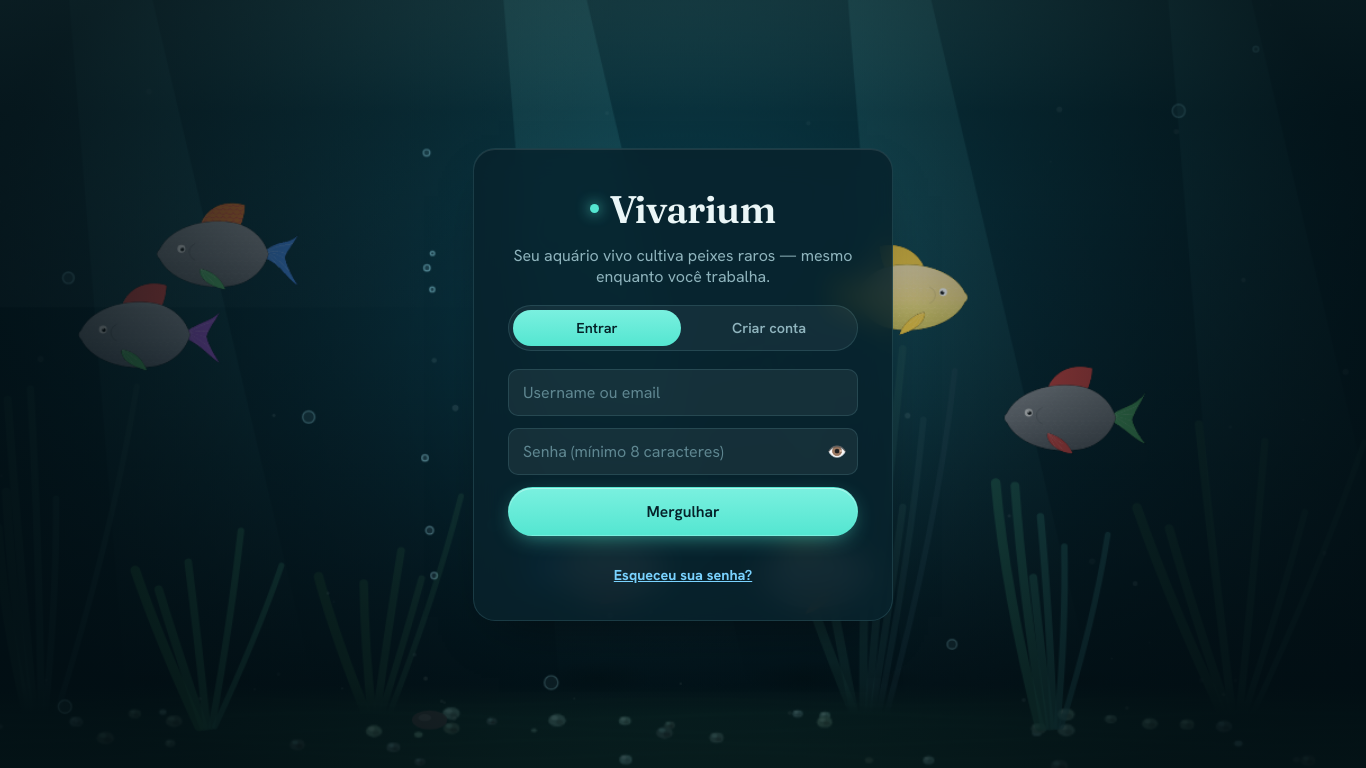
VIP › botão de um pacote fica desabilitado sem saldo suficiente
Type "jogador1" into the field with placeholder "Username ou email".
click(683, 393); type("jogador1")  # box [508,369,858,416]
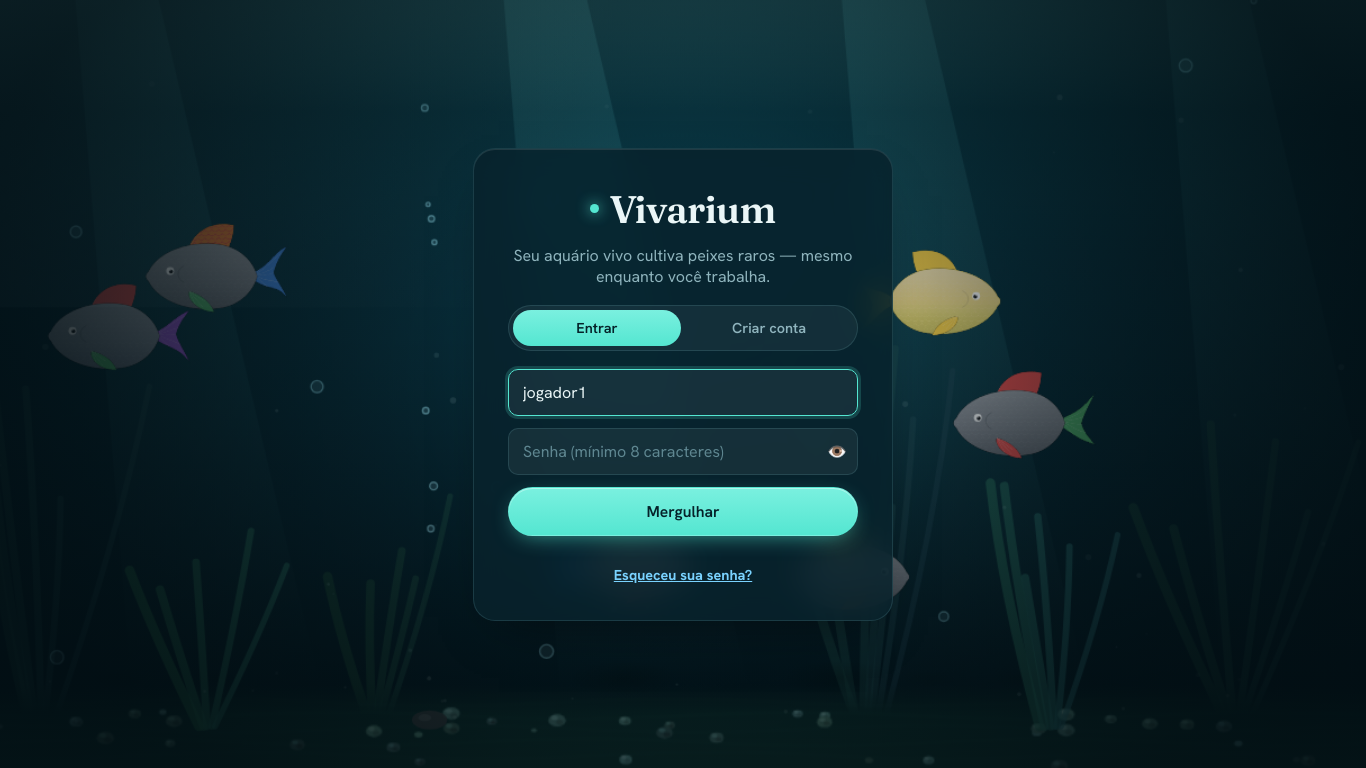
Type "senha-forte-123" into the password field with placeholder "Senha (mínimo 8 caracteres)".
click(683, 452); type("senha-forte-123")  # box [508,428,858,475]
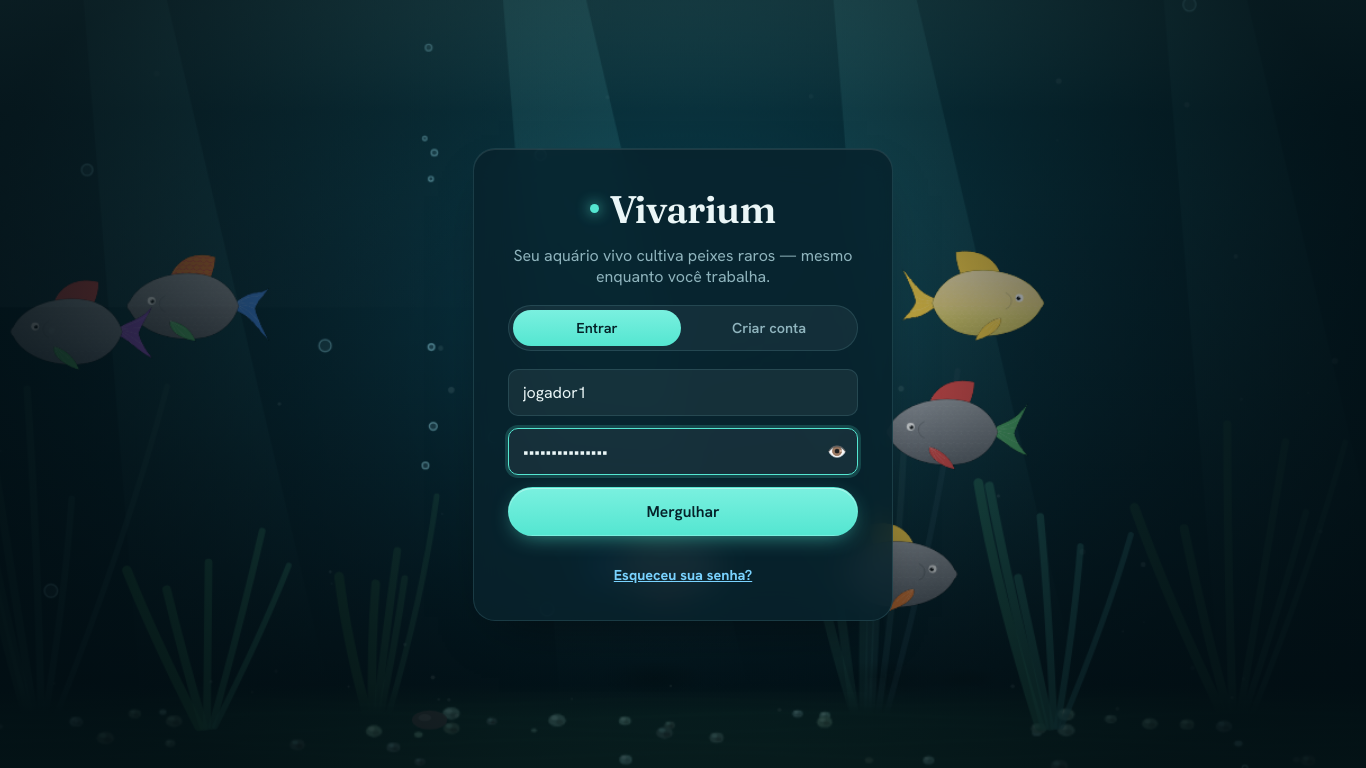
Click the button "Mergulhar".
click(683, 512)  # box [508,487,858,536]
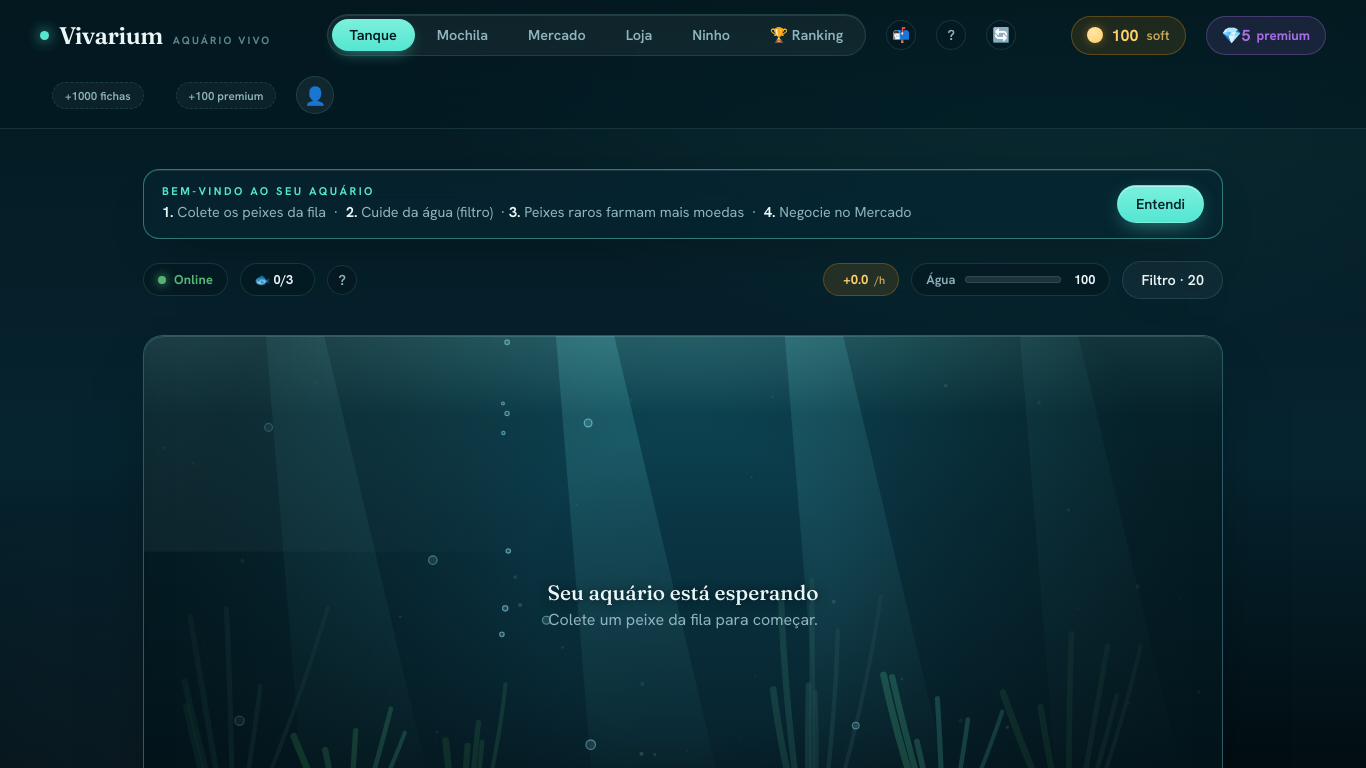
Click the button "Loja".
click(640, 35)  # box [608,19,671,51]
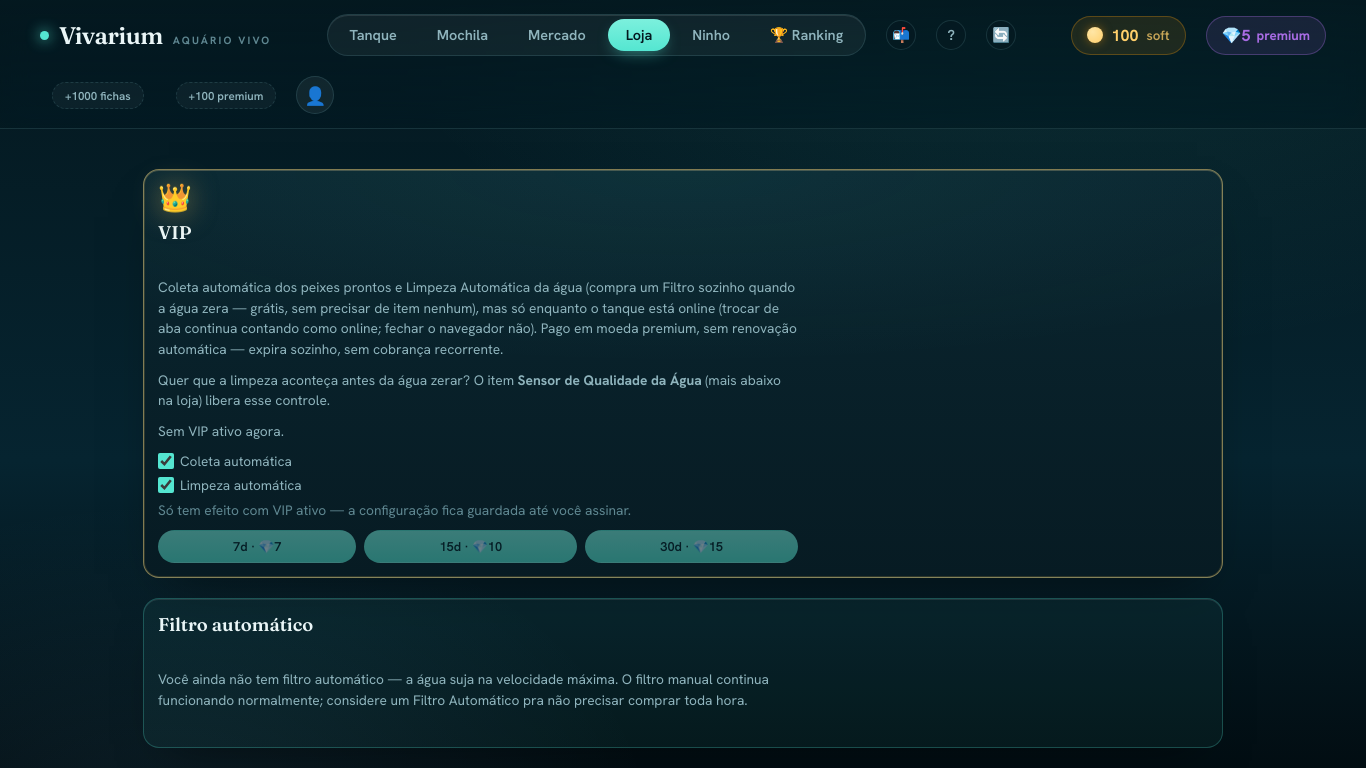
Now the button "7d · 💎7" is disabled, box [158,530,356,563]
Now the button "15d · 💎10" is disabled, box [364,530,577,563]
Now the button "30d · 💎15" is disabled, box [585,530,798,563]
